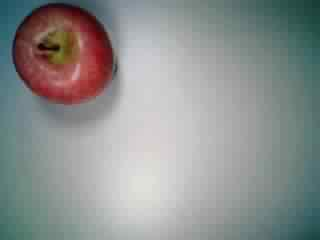apple: (9, 2, 115, 106)
